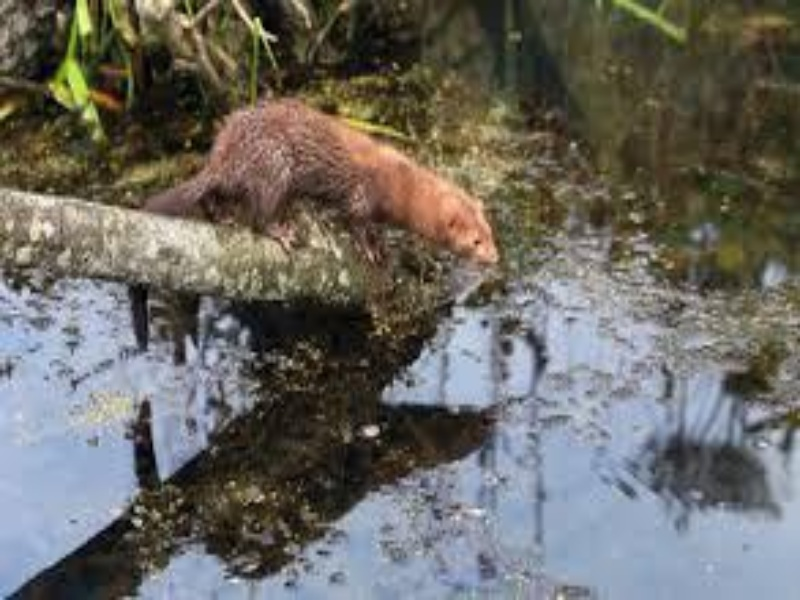minkish: (140, 100, 505, 272)
